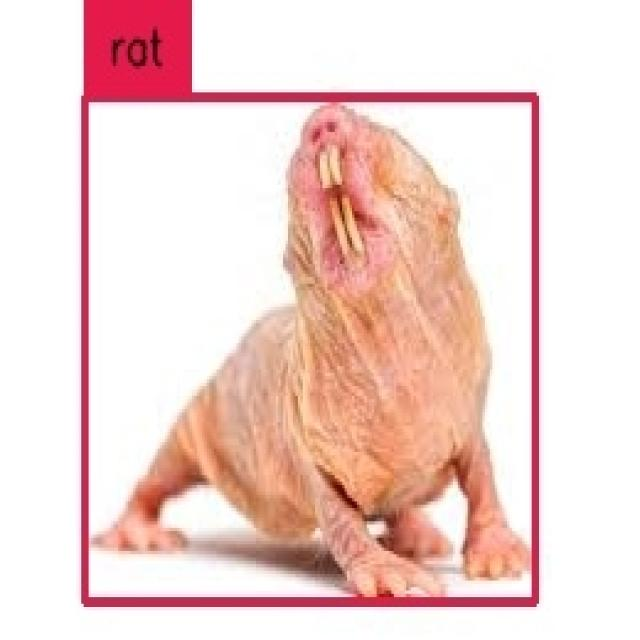rat: (85, 99, 535, 604)
